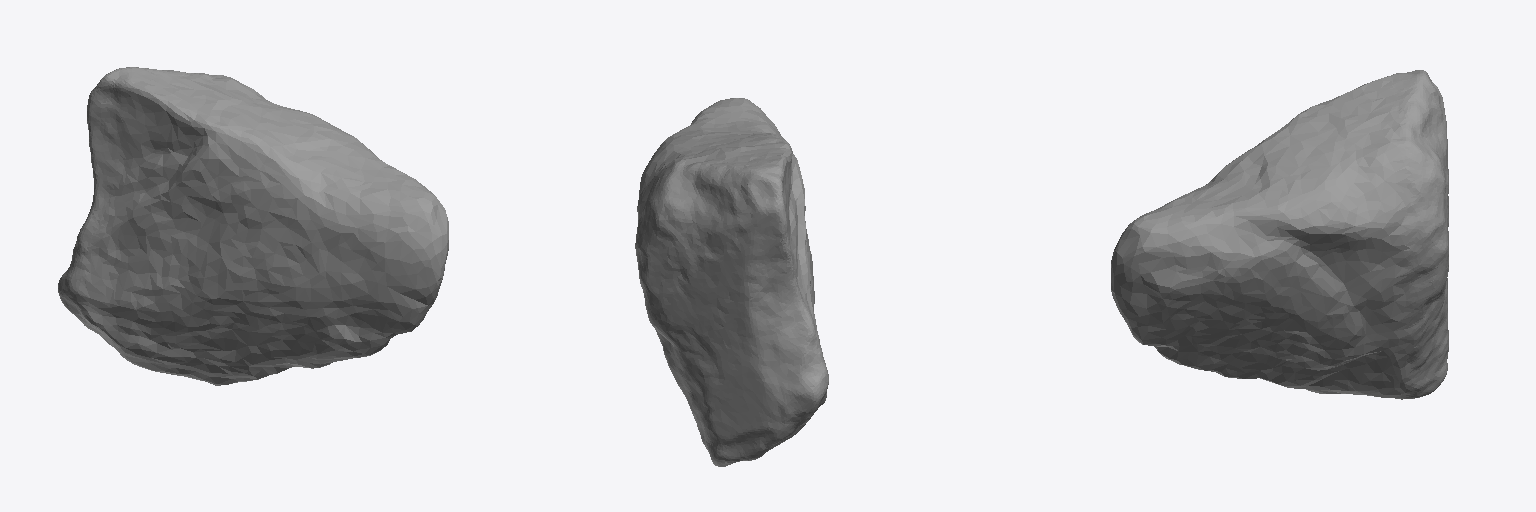
3 views of the same model, side by side, from view 1: azimuth 30°, elevation 25°; view 2: azimuth 150°, elevation 25°; view 3: azimuth 270°, elevation 25° (orthographic).
Visible parts, largest first — view 1: final_sp2_l; view 2: final_sp2_l; view 3: final_sp2_l.
Part boxes in pixels (x1,y1,x2,y2): final_sp2_l: (58, 67, 448, 385); final_sp2_l: (635, 98, 828, 466); final_sp2_l: (1111, 70, 1448, 399).
Bounding box in the file's own units: 0.6659 × 0.7691 × 0.7806.